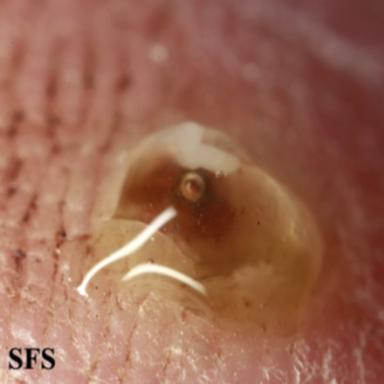Tungiasis: (77, 122, 322, 334), (204, 214, 205, 214)
